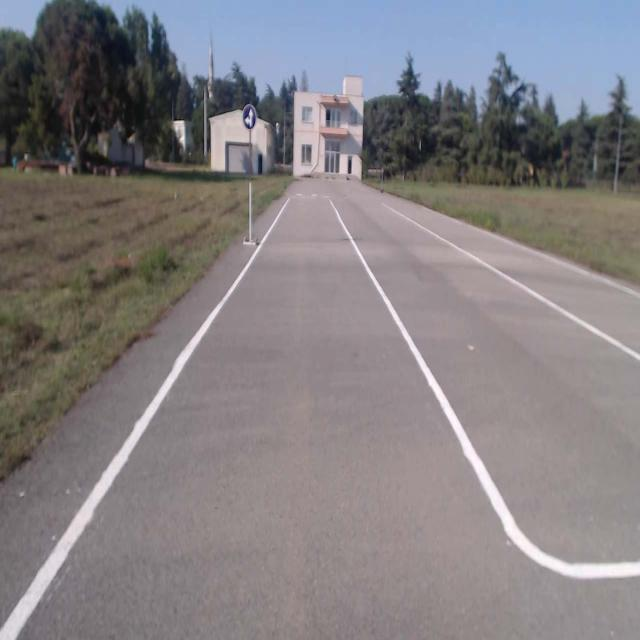ilerisol: (242, 103, 256, 129)
